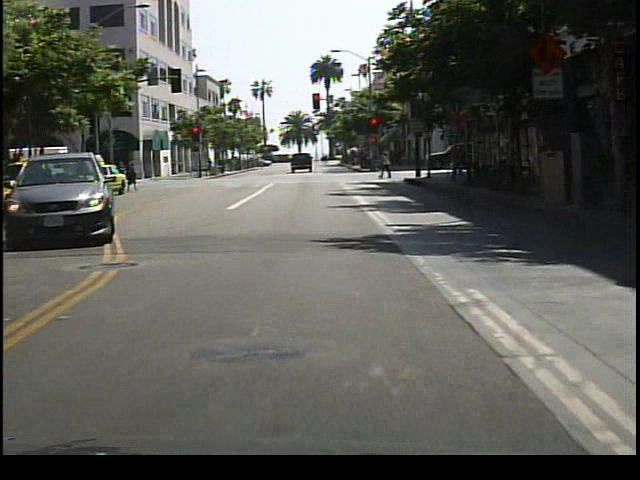person: (125, 158, 139, 193), (409, 144, 424, 175), (378, 150, 394, 179)
